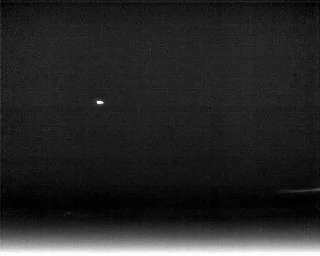AIRPLANE: (95, 98, 105, 107)
